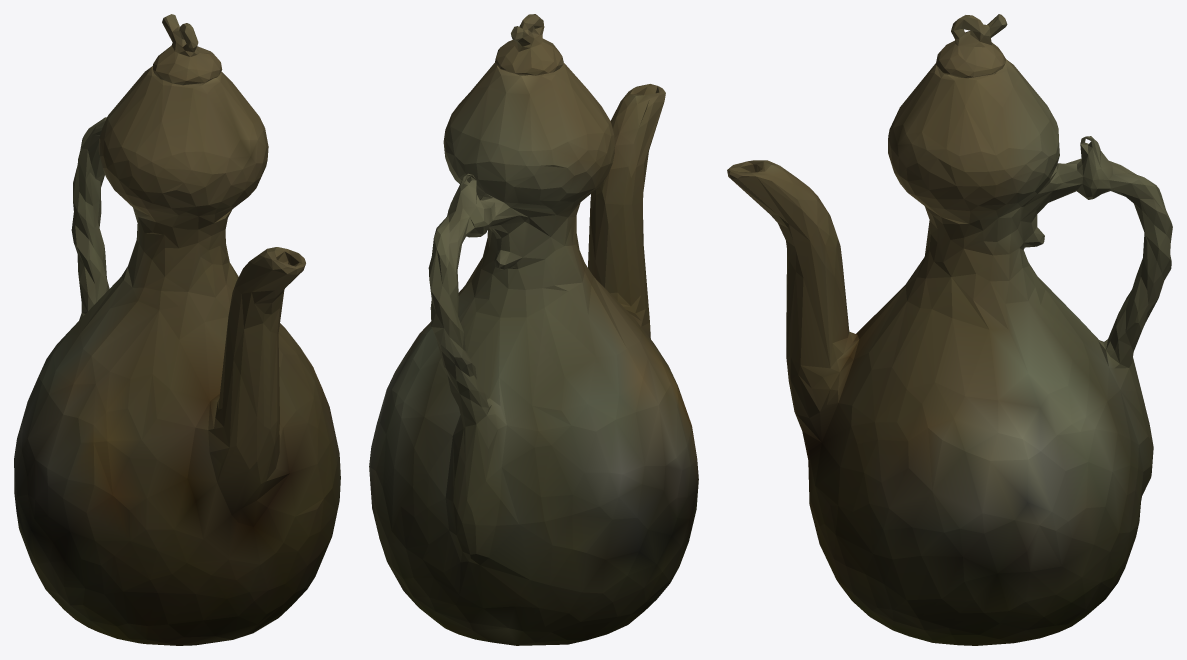
Rendered from celadon_kettle_e3e6139a.glb.
3 renders of one model, left to right at view 1: azimuth 30°, elevation 25°; view 2: azimuth 150°, elevation 25°; view 3: azimuth 270°, elevation 25°, orthographic. The views are drawn at different scales.
Visible parts, largest first — view 1: kettle_M_Celadon_Kettle_0; view 2: kettle_M_Celadon_Kettle_0; view 3: kettle_M_Celadon_Kettle_0.
Part boxes in pixels (x1,y1,x2,y2): kettle_M_Celadon_Kettle_0: (14,14,340,645); kettle_M_Celadon_Kettle_0: (369,14,698,645); kettle_M_Celadon_Kettle_0: (727,14,1172,645).
Bounding box in the file's own units: 0.1296 × 0.2517 × 0.1721.
